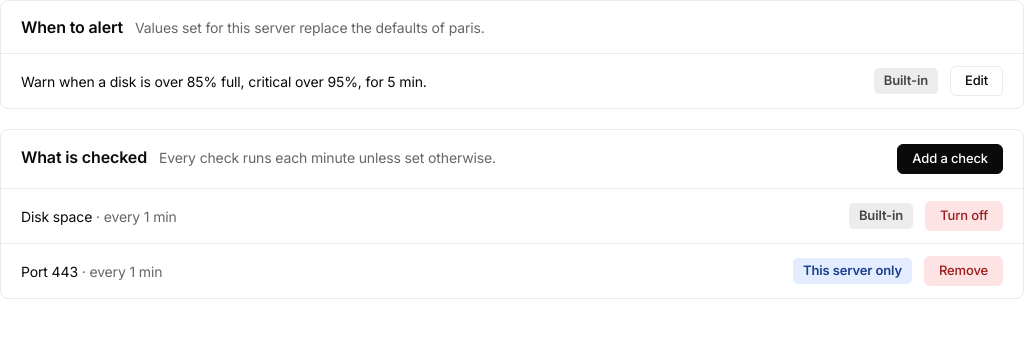
Test: MonitoringSettings › removes a check added here with its alerts, and turns off an inherited one
Click the button with aria-label "Remove Port 443". click: click(963, 271)
box: [924,256,1003,286]
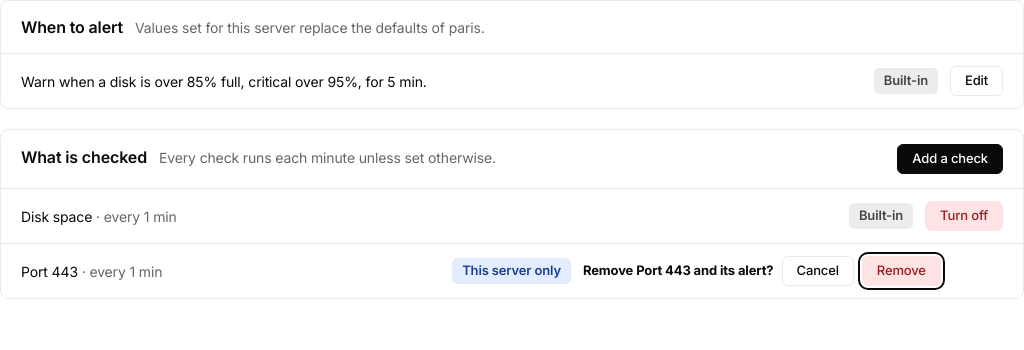
Click the button "Remove". click: click(901, 271)
box: [862,256,941,286]
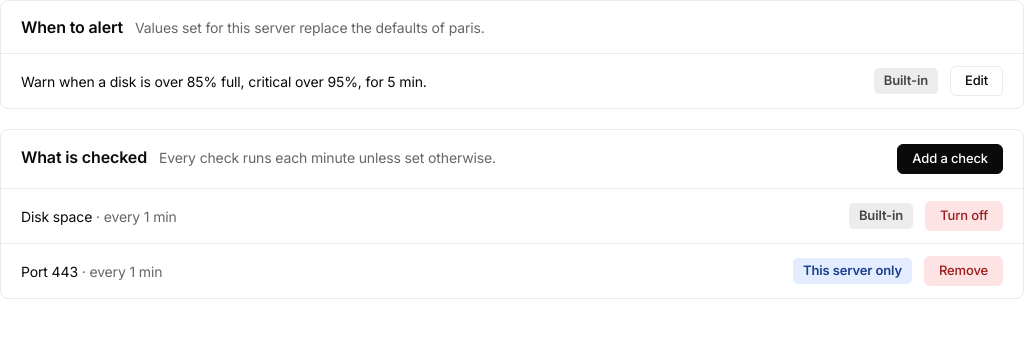
Now the button with aria-label "Remove Port 443" is shown, box [924,256,1003,286]
Click the button with aria-label "Turn off Disk space". click: click(964, 216)
box: [925,201,1003,231]
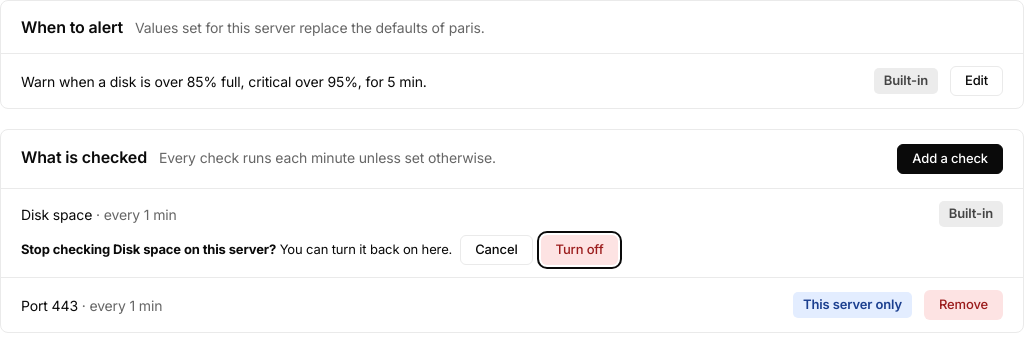
Click the button "Turn off". click: click(579, 250)
box: [540,235,618,265]
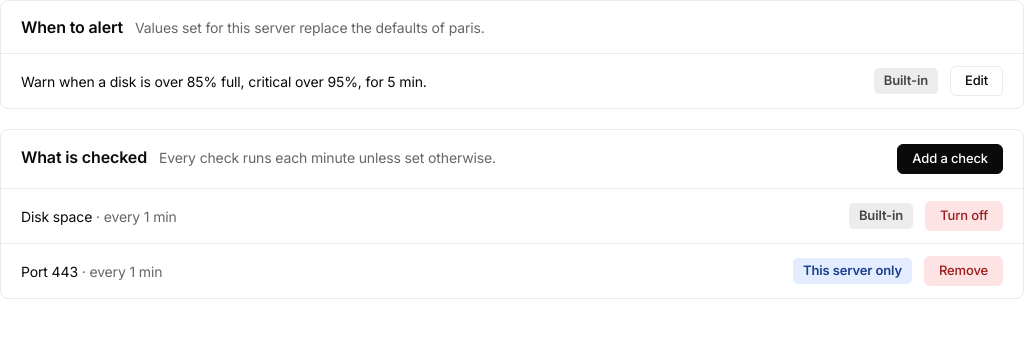
Now the button with aria-label "Turn off Disk space" is shown, box [925,201,1003,231]
